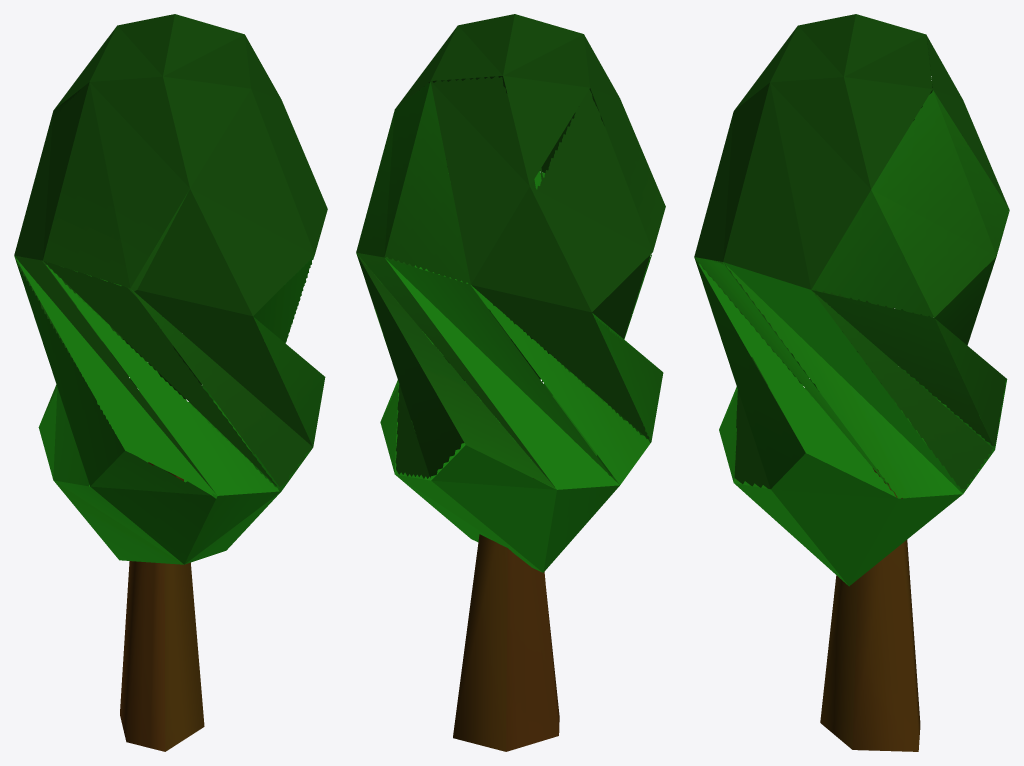
File: drzewo3.obj
3 renders of one model, left to right at view 1: azimuth 30°, elevation 25°; view 2: azimuth 150°, elevation 25°; view 3: azimuth 270°, elevation 25°, orthographic.
Visible parts, largest first — view 1: Cylinder015; view 2: Cylinder015; view 3: Cylinder015.
Boxes of the visible parts, x1,y1,x2,y2 form: Cylinder015: (14, 14, 327, 751); Cylinder015: (356, 14, 665, 751); Cylinder015: (694, 14, 1009, 751).
Bounding box in the file's own units: 36.69 × 94.46 × 37.4.
